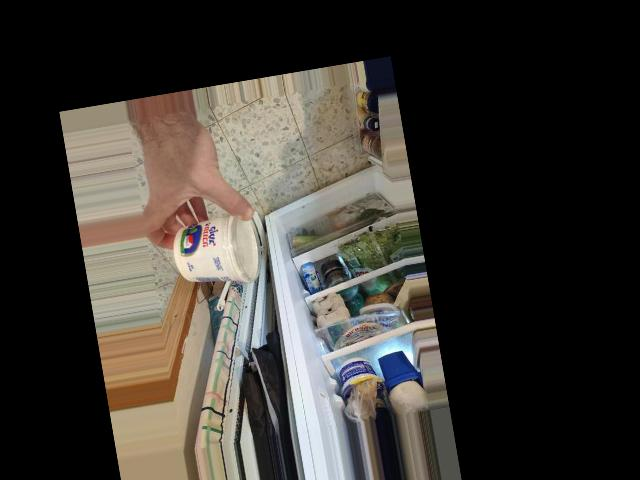cotage: (165, 206, 263, 294)
